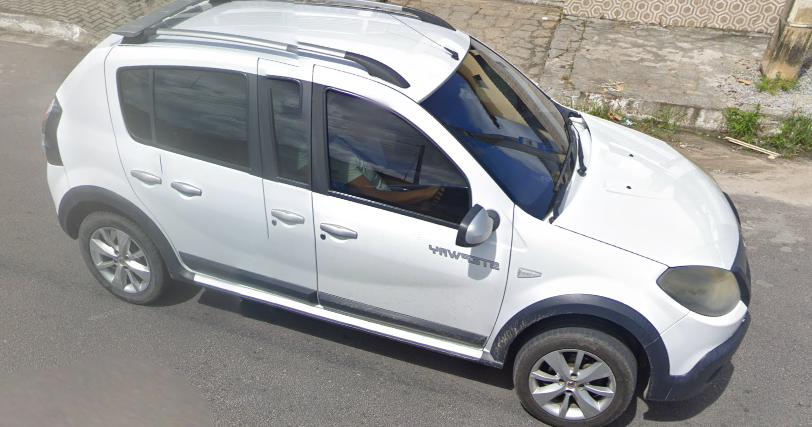car: (41, 1, 754, 422)
